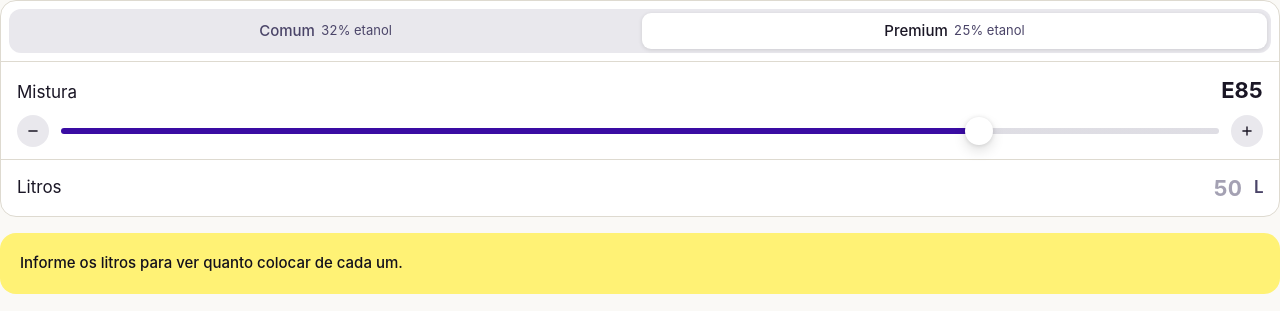
Test: Calculator › não deixa passar de E100
Step 1. Set the slider labelled "Mistura" to "100" → (1211, 131), box [61, 117, 1219, 145]
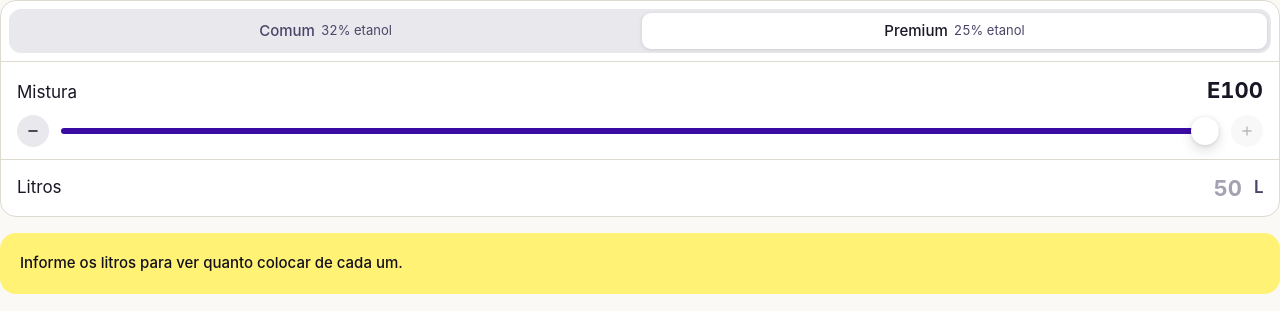
Expected: the button named "Aumentar mistura" is disabled, [1231, 115, 1263, 147]
